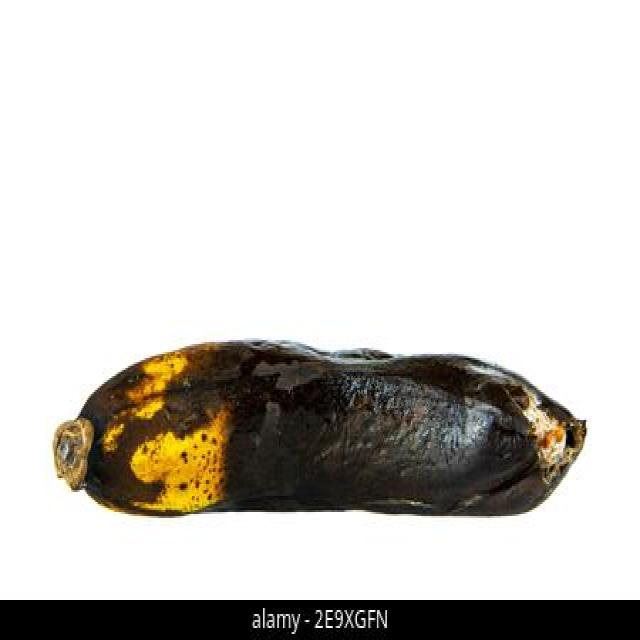Rotten: (52, 334, 587, 520)
